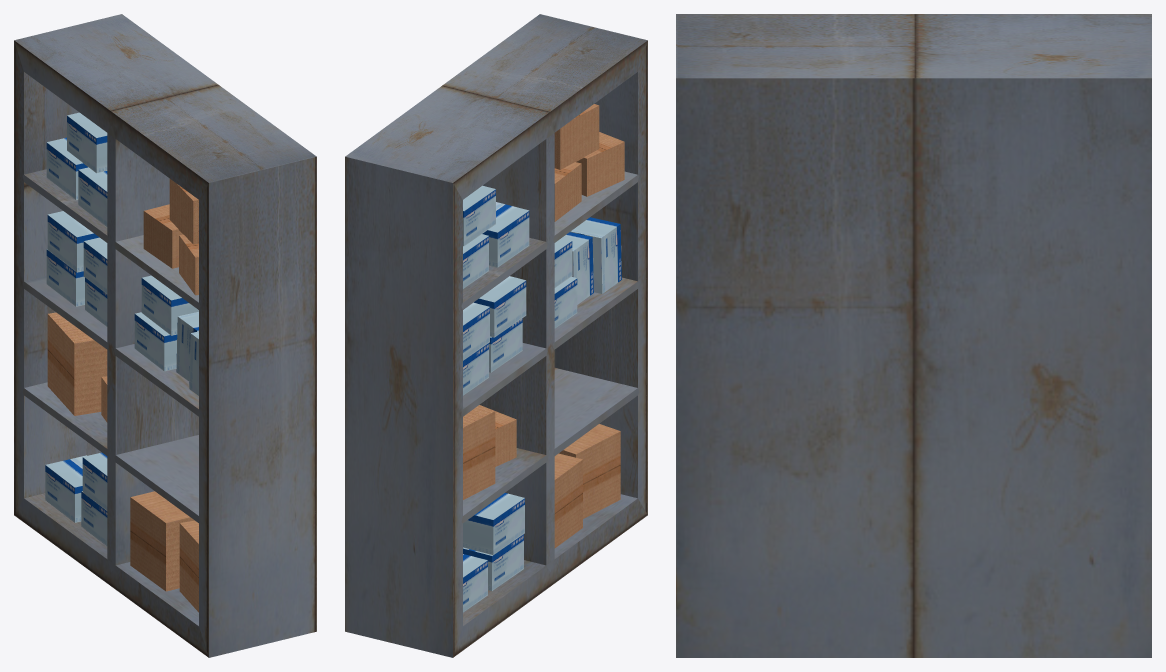
The model's file is CabinetB.fbx.
3 renders of one model, left to right at view 1: azimuth 30°, elevation 25°; view 2: azimuth 150°, elevation 25°; view 3: azimuth 270°, elevation 25°, orthographic. The views are drawn at different scales.
Visible parts, largest first — view 1: medicine cabinet, Cardboard, Cardboard.003, Box.005, Box.003, Box.011, Box.016, Cardboard.005, Box.010, Cardboard.002, Box.015, Box.014 (+9 smaller); view 2: medicine cabinet, Cardboard.002, Box.006, Cardboard, Cardboard.003, Box.008, Box.014, Cardboard.006, Cardboard.004, Box.002, Box.016, Box.004 (+10 smaller); view 3: medicine cabinet.
Part boxes in pixels (<box>): medicine cabinet: <box>14,14,316,657</box>; Cardboard: <box>47,312,107,415</box>; Cardboard.003: <box>130,491,194,591</box>; Box.005: <box>45,455,86,522</box>; Box.003: <box>47,211,99,272</box>; Box.011: <box>141,275,198,335</box>; Box.016: <box>67,112,107,173</box>; Cardboard.005: <box>143,204,182,268</box>; Box.010: <box>134,312,177,371</box>; Cardboard.002: <box>179,520,198,612</box>; Box.015: <box>46,137,87,199</box>; Box.014: <box>78,167,107,226</box>; medicine cabinet: <box>345,14,647,657</box>; Cardboard.002: <box>559,424,620,518</box>; Box.006: <box>463,493,524,554</box>; Cardboard: <box>463,405,495,499</box>; Cardboard.003: <box>554,453,582,548</box>; Box.008: <box>570,217,621,293</box>; Box.014: <box>483,202,529,267</box>; Cardboard.006: <box>554,104,599,169</box>; Cardboard.004: <box>576,132,624,196</box>; Box.002: <box>474,276,526,337</box>; Box.016: <box>463,185,495,246</box>; Box.004: <box>463,534,523,591</box>; medicine cabinet: <box>676,14,1151,657</box>.
Size of the model in its own units: 187 by 786 by 585.
3 materials, 3 textured.
